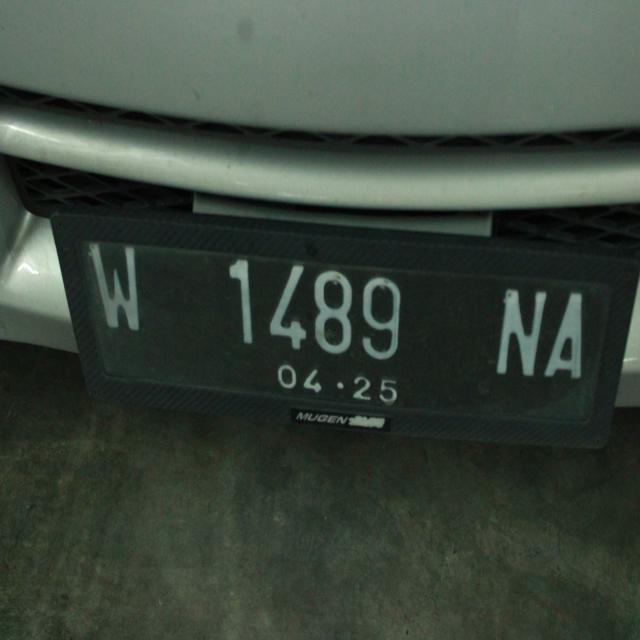1: (216, 242, 266, 352)
4: (262, 248, 310, 352)
8: (310, 259, 354, 359)
9: (354, 264, 408, 376)
A: (540, 274, 596, 392)
N: (480, 270, 551, 384)
W: (84, 230, 151, 344)
